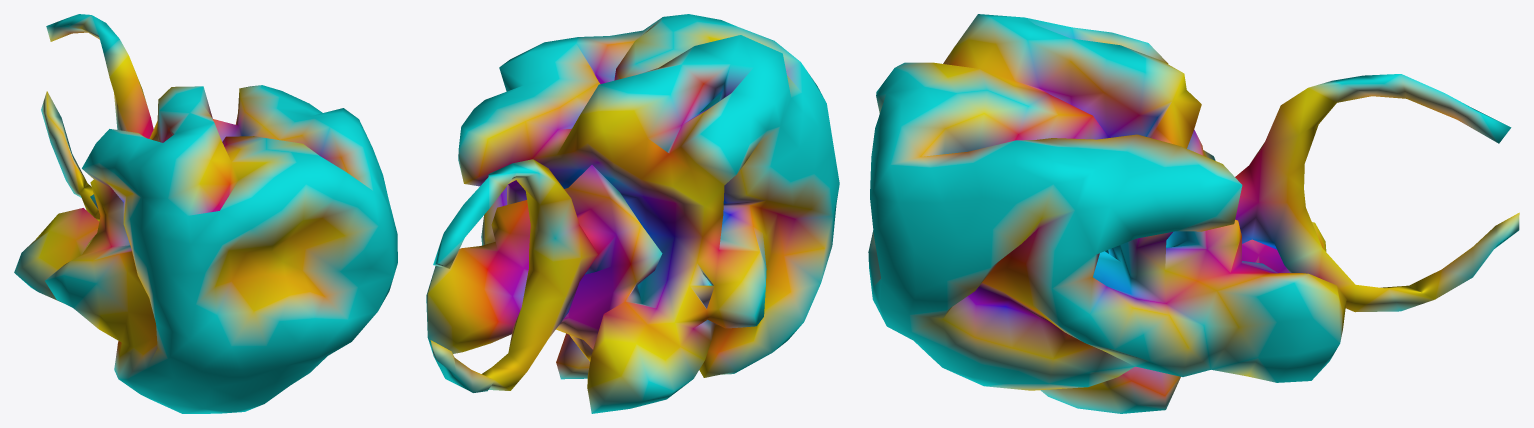
Rendered from jelly_60.gltf.
The picture shows the model from 3 angles, left to right: view 1: azimuth 30°, elevation 25°; view 2: azimuth 150°, elevation 25°; view 3: azimuth 270°, elevation 25°; orthographic projection. The views are drawn at different scales.
Visible parts, largest first — view 1: jellysquid3; view 2: jellysquid3; view 3: jellysquid3.
Boxes of the visible parts, <box> form: jellysquid3: <box>14,14,397,413</box>; jellysquid3: <box>426,14,839,413</box>; jellysquid3: <box>868,14,1519,413</box>.
Bounding box in the file's own units: 4.12 × 4.11 × 6.82.
